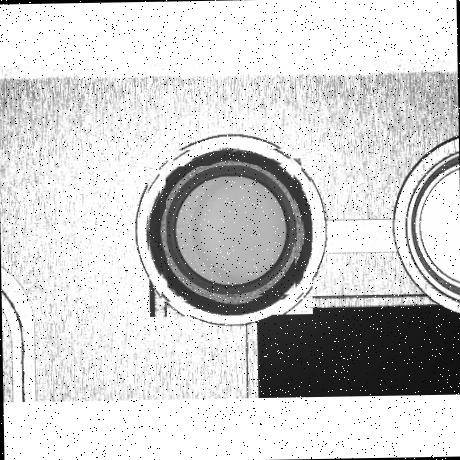Hole: (145, 148, 313, 316)
Hole2: (159, 157, 303, 301)
Hole3: (164, 164, 296, 296)
Hole4: (175, 175, 286, 285)
